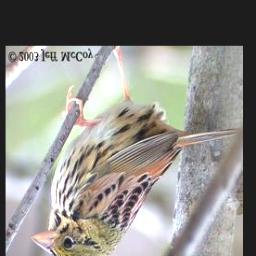Sparrow: (30, 49, 240, 256)
